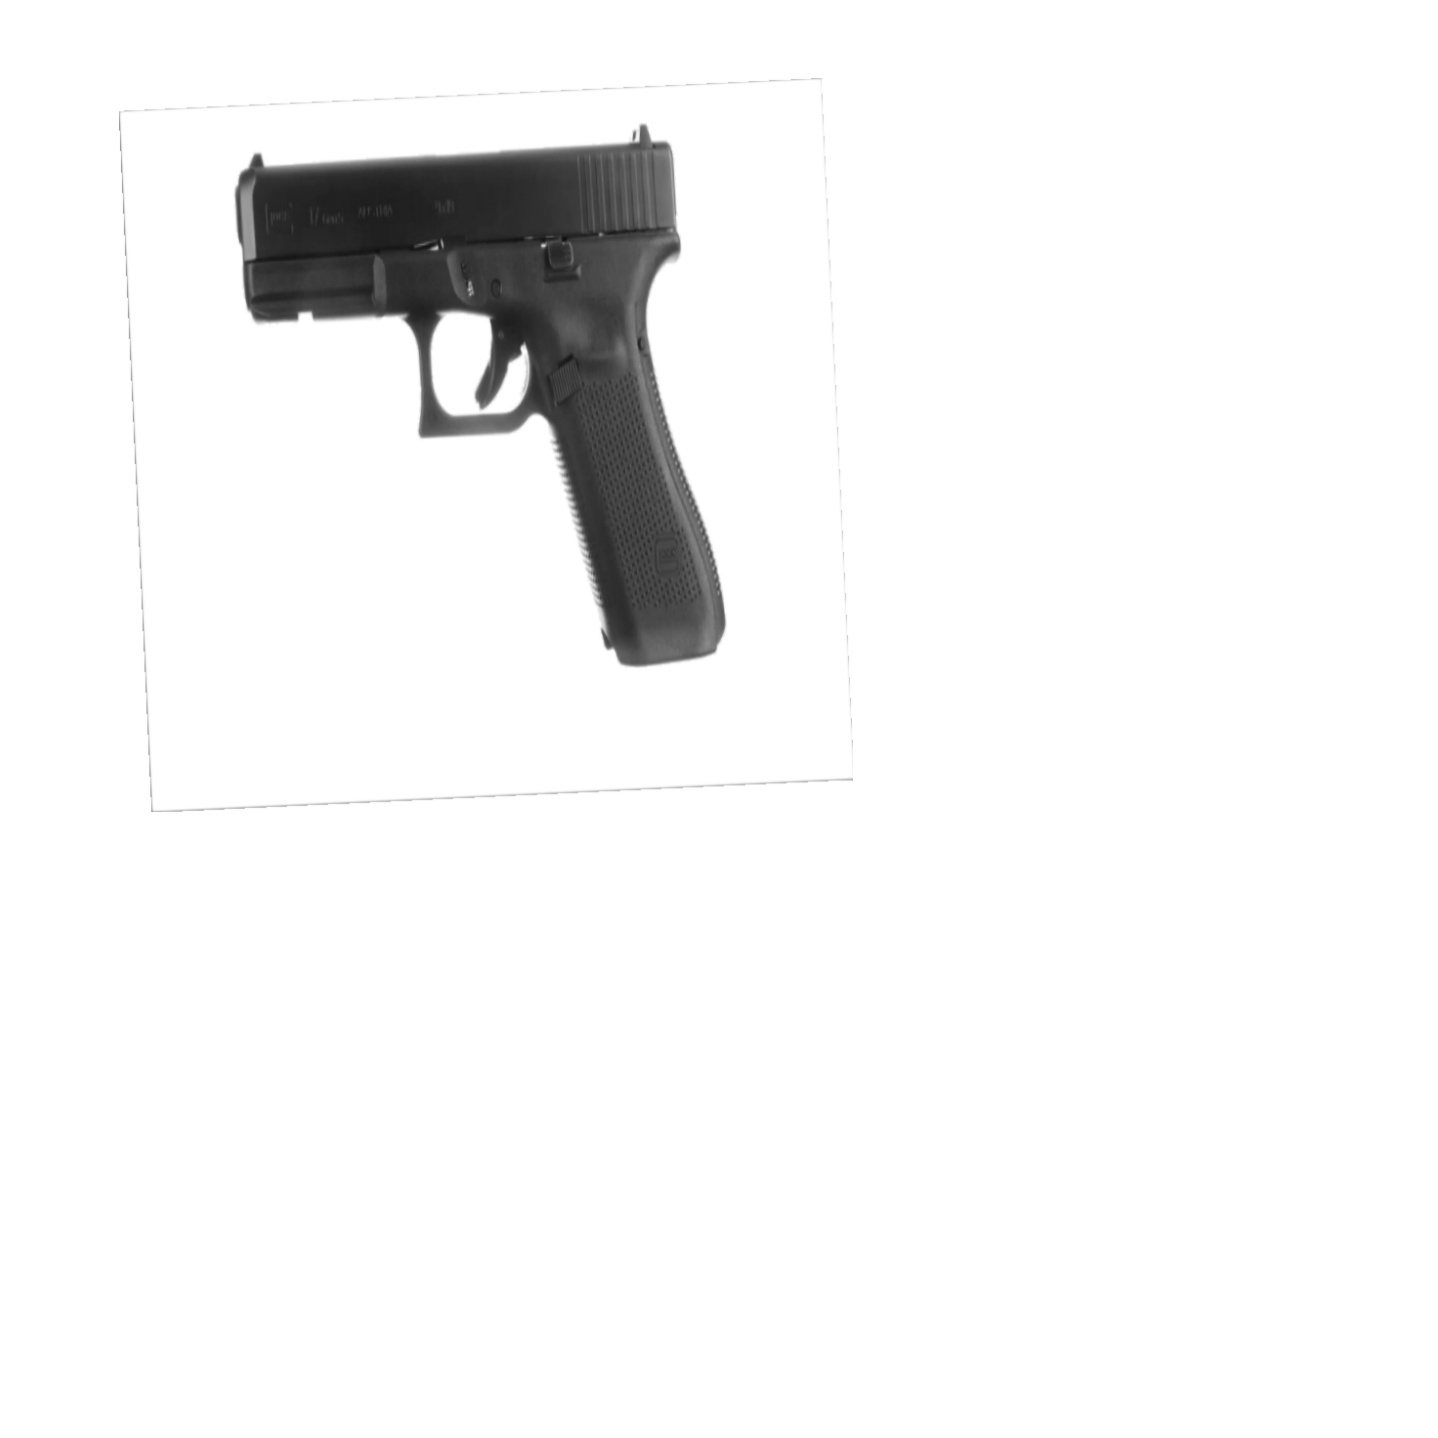gun: (217, 115, 732, 686)
